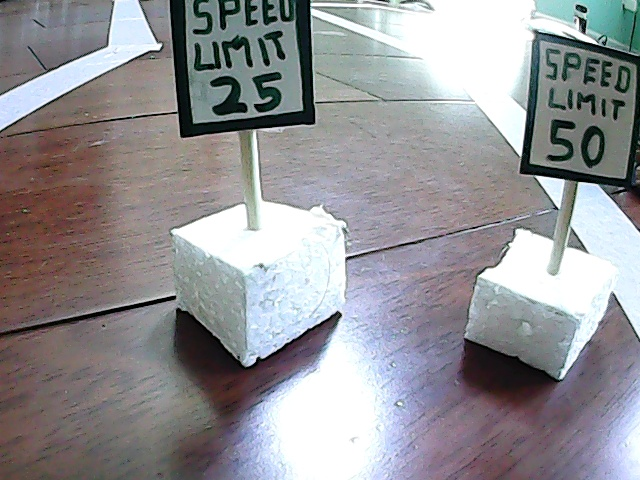speed_25: (147, 1, 368, 370)
speed_50: (486, 24, 636, 383)
